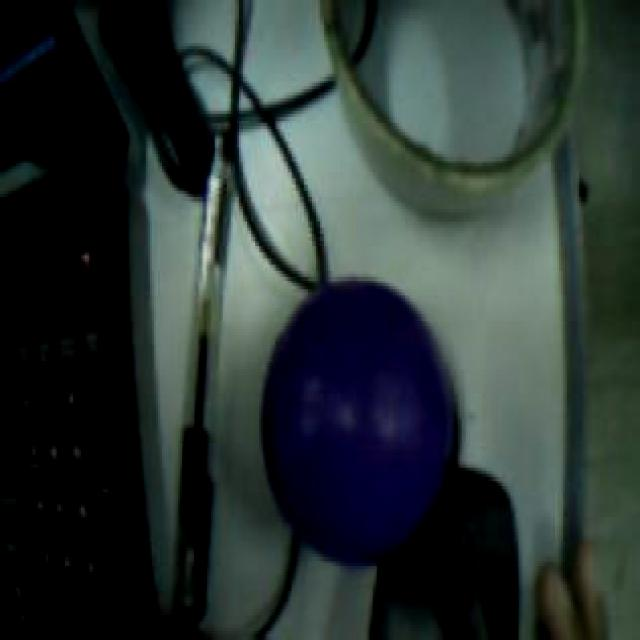BallPurple: (261, 279, 456, 561)
